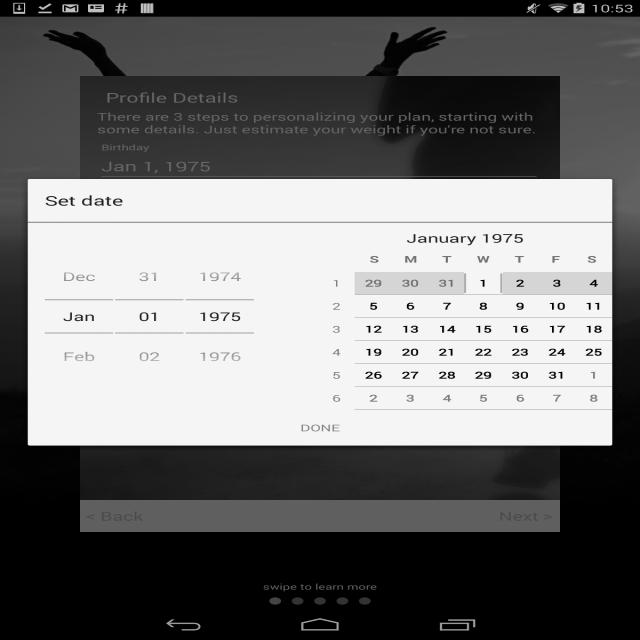Button: (28, 410, 612, 446), (115, 332, 184, 377), (185, 332, 254, 377), (45, 332, 113, 377), (115, 256, 184, 300), (185, 256, 254, 300), (45, 256, 113, 300)
EditText: (115, 300, 184, 332), (185, 300, 254, 332), (45, 300, 113, 332)
ImageView: (318, 269, 612, 270)
TextView: (45, 192, 595, 210), (406, 223, 524, 253), (356, 253, 393, 265), (392, 253, 429, 265), (501, 253, 538, 265), (537, 253, 574, 265), (429, 253, 465, 265), (465, 253, 501, 265), (574, 253, 610, 265), (321, 253, 356, 265)
